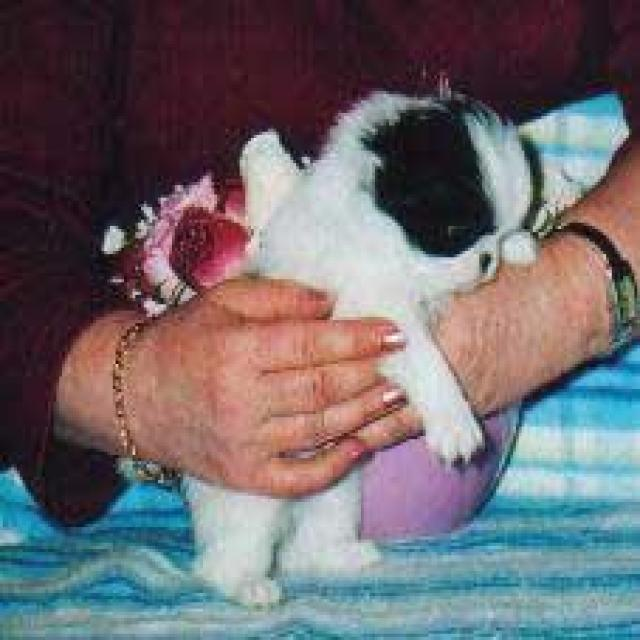husky: (178, 79, 544, 606)
